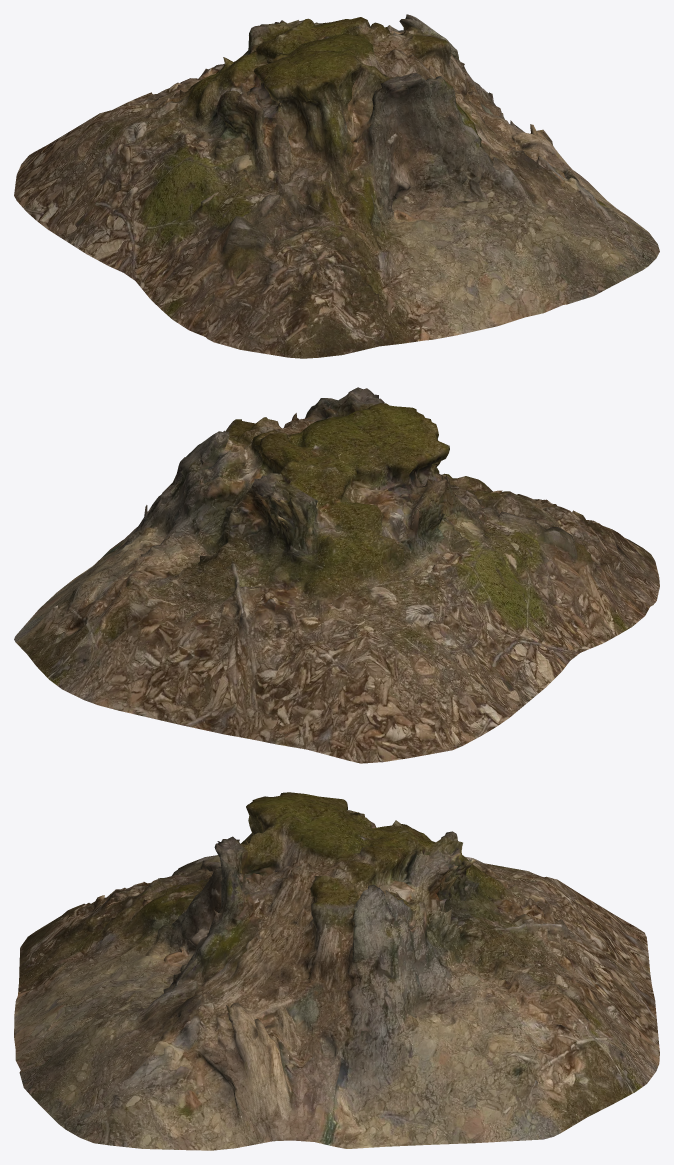
File: tree_stump_01.glb
The picture shows the model from 3 angles, top to bottom: view 1: azimuth 30°, elevation 25°; view 2: azimuth 150°, elevation 25°; view 3: azimuth 270°, elevation 25°; orthographic projection. The views are drawn at different scales.
Parts seen in each view (by area): view 1: tree_stump_01; view 2: tree_stump_01; view 3: tree_stump_01.
Part boxes in pixels (<box>): tree_stump_01: <box>14,14,659,358</box>; tree_stump_01: <box>14,387,659,763</box>; tree_stump_01: <box>14,792,659,1150</box>.
Size of the model in its own units: 1.43 by 0.5725 by 1.59.
1 material, 1 textured.
